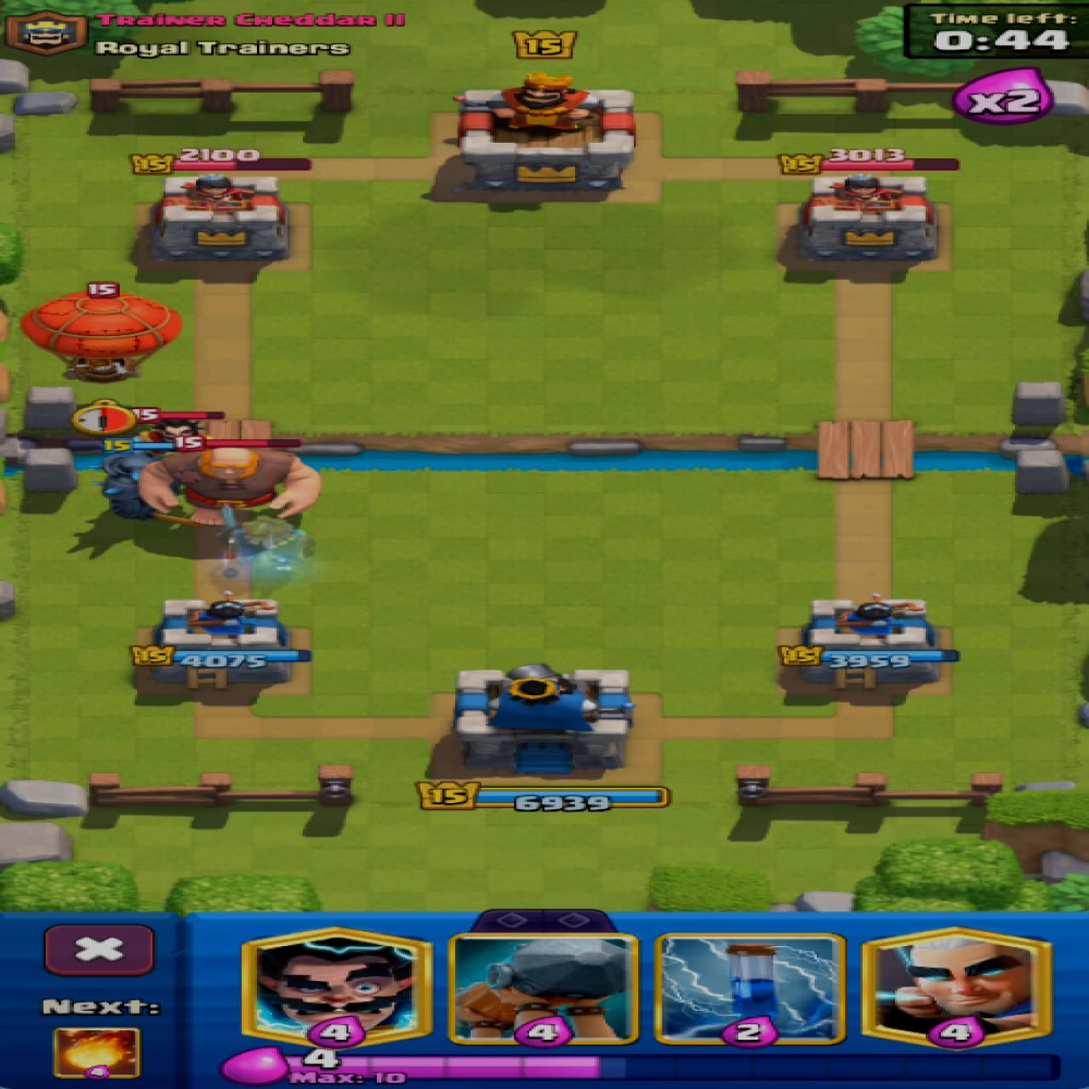Enemy-Balloon: (22, 283, 181, 383)
Enemy-ElectroWizard: (142, 420, 200, 442)
Enemy-Giant: (144, 445, 316, 523)
Enemy-KingTower: (457, 74, 634, 192)
Enemy-PrincessTower: (799, 174, 937, 262), (152, 173, 287, 258)
